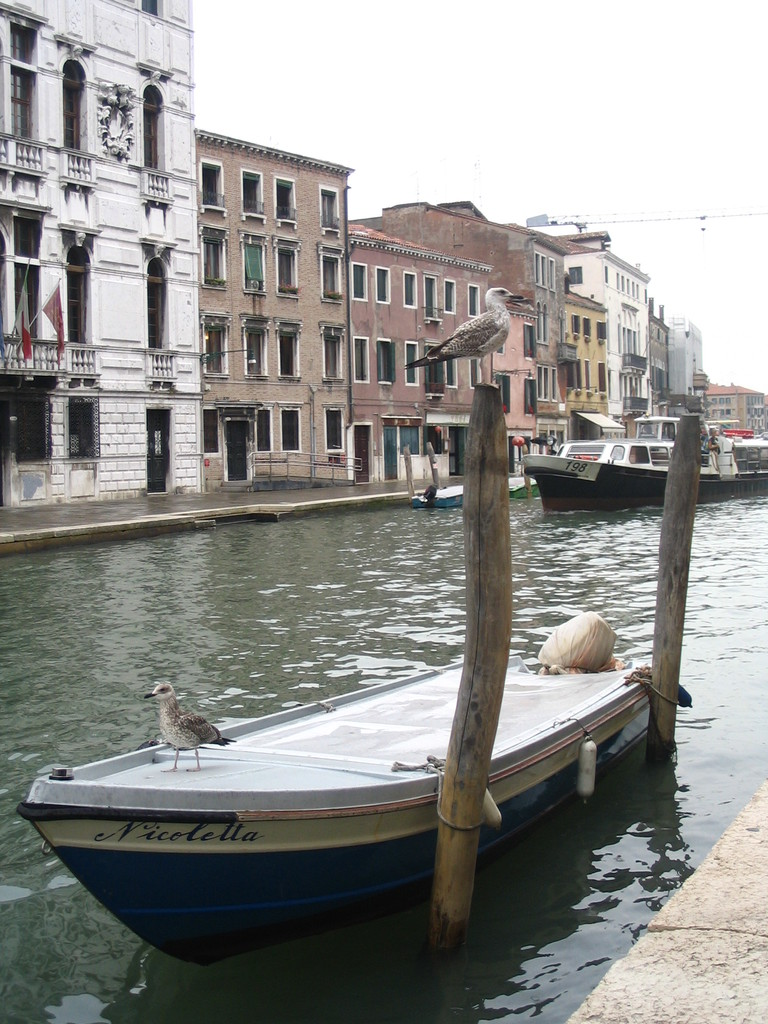Animal: (399, 286, 527, 389), (141, 680, 234, 773)
